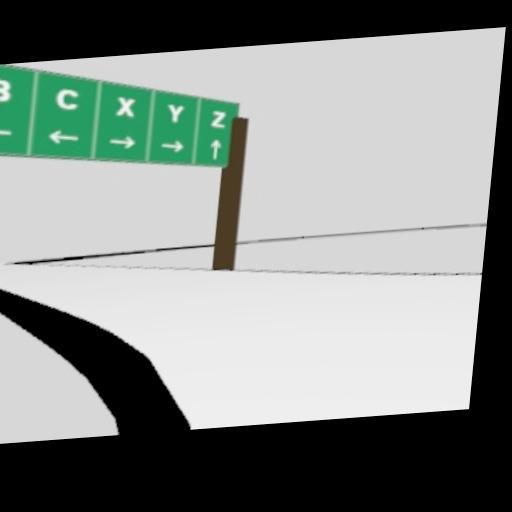B: (0, 74, 14, 102)
C: (54, 86, 80, 111)
Left: (45, 128, 79, 147), (0, 120, 12, 140)
Right: (108, 134, 137, 149), (159, 140, 184, 155)
Straight: (209, 138, 222, 160)
X: (114, 95, 135, 117)
Y: (165, 103, 185, 123)
Z: (210, 110, 228, 129)
